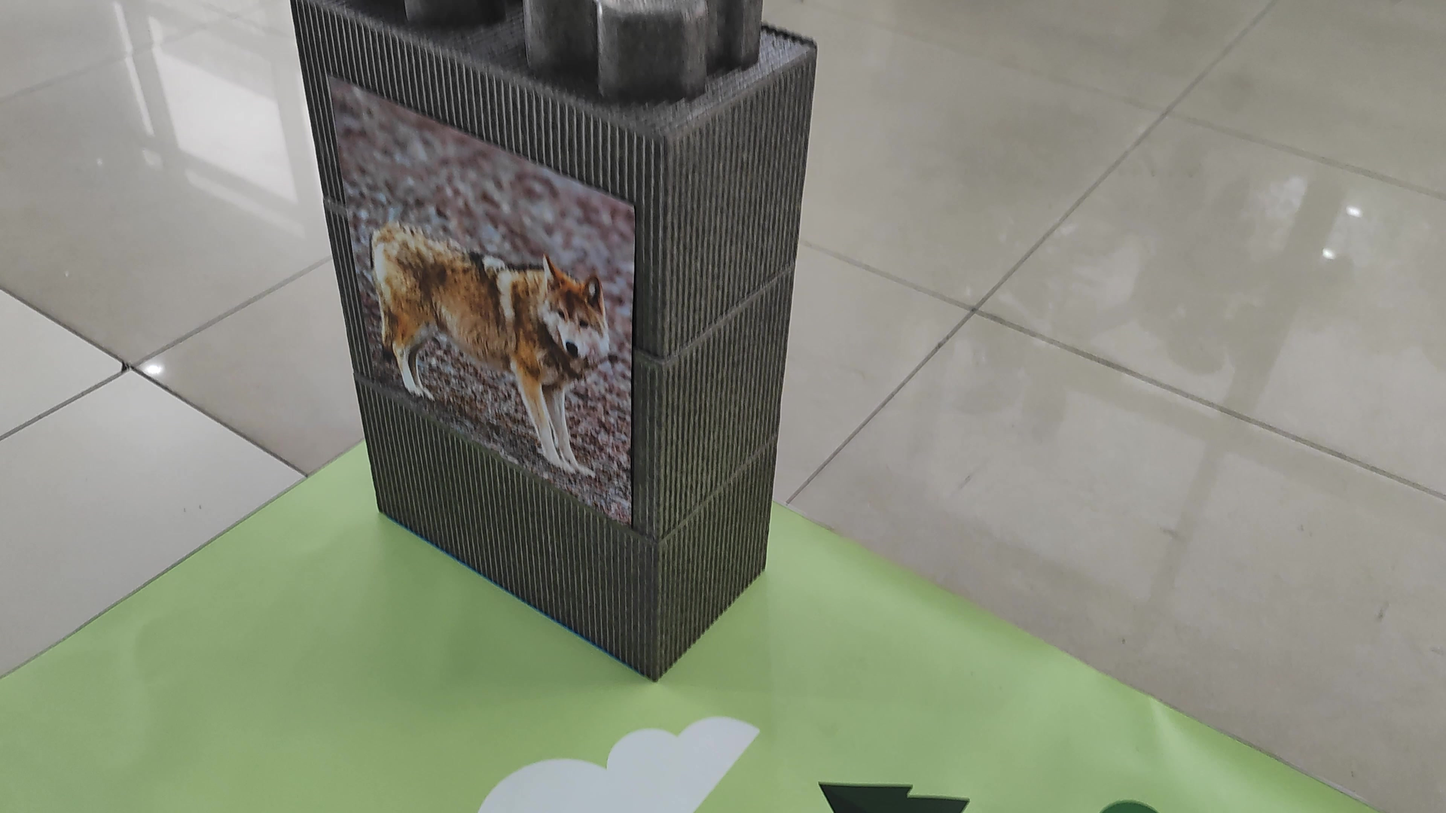wolf: (356, 192, 629, 506)
